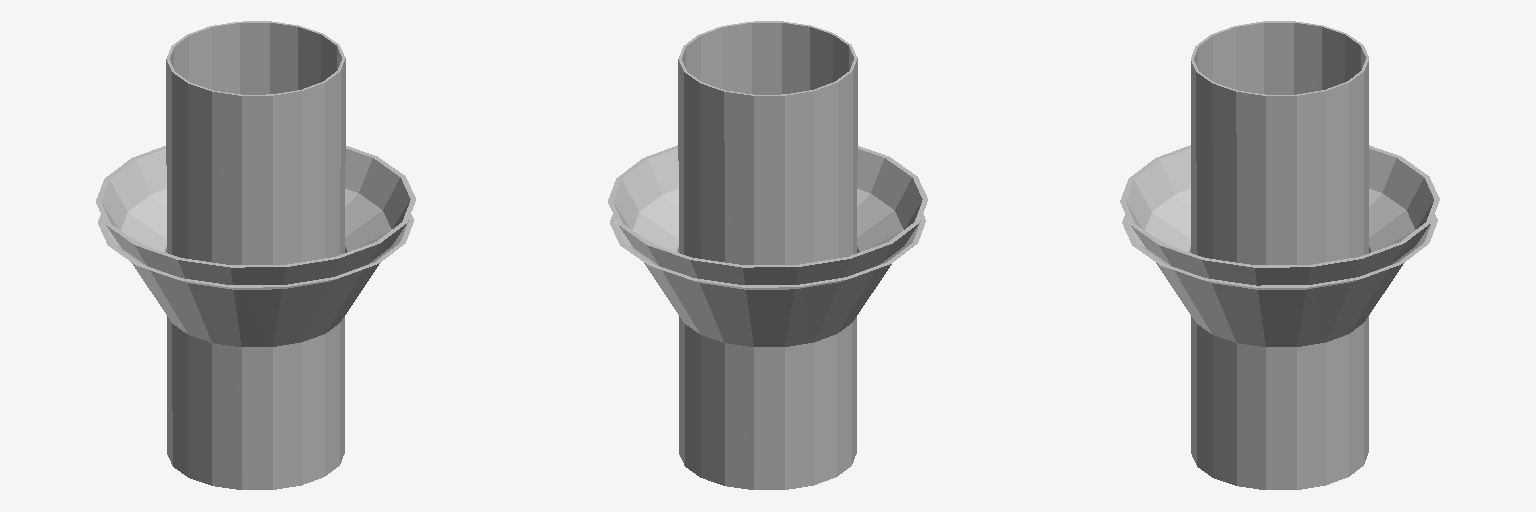
Rendered from vases.obj.
3 renders of one model, left to right at view 1: azimuth 30°, elevation 25°; view 2: azimuth 150°, elevation 25°; view 3: azimuth 270°, elevation 25°, orthographic.
Visible parts, largest first — view 1: vase_04, vase_02, vase_03, vase_01; view 2: vase_04, vase_02, vase_03, vase_01; view 3: vase_04, vase_02, vase_03, vase_01.
Boxes of the visible parts, x1=… form: vase_04: x1=166, y1=24, x2=345, y2=488; vase_02: x1=96, y1=146, x2=415, y2=346; vase_03: x1=98, y1=189, x2=413, y2=289; vase_01: x1=166, y1=21, x2=345, y2=489; vase_04: x1=678, y1=24, x2=857, y2=488; vase_02: x1=608, y1=145, x2=927, y2=346; vase_03: x1=610, y1=189, x2=925, y2=289; vase_01: x1=678, y1=21, x2=857, y2=489; vase_04: x1=1191, y1=24, x2=1368, y2=488; vase_02: x1=1120, y1=145, x2=1439, y2=346; vase_03: x1=1122, y1=189, x2=1437, y2=289; vase_01: x1=1191, y1=21, x2=1368, y2=489.
Size of the model in its own units: 0.247 by 0.3392 by 0.2494.